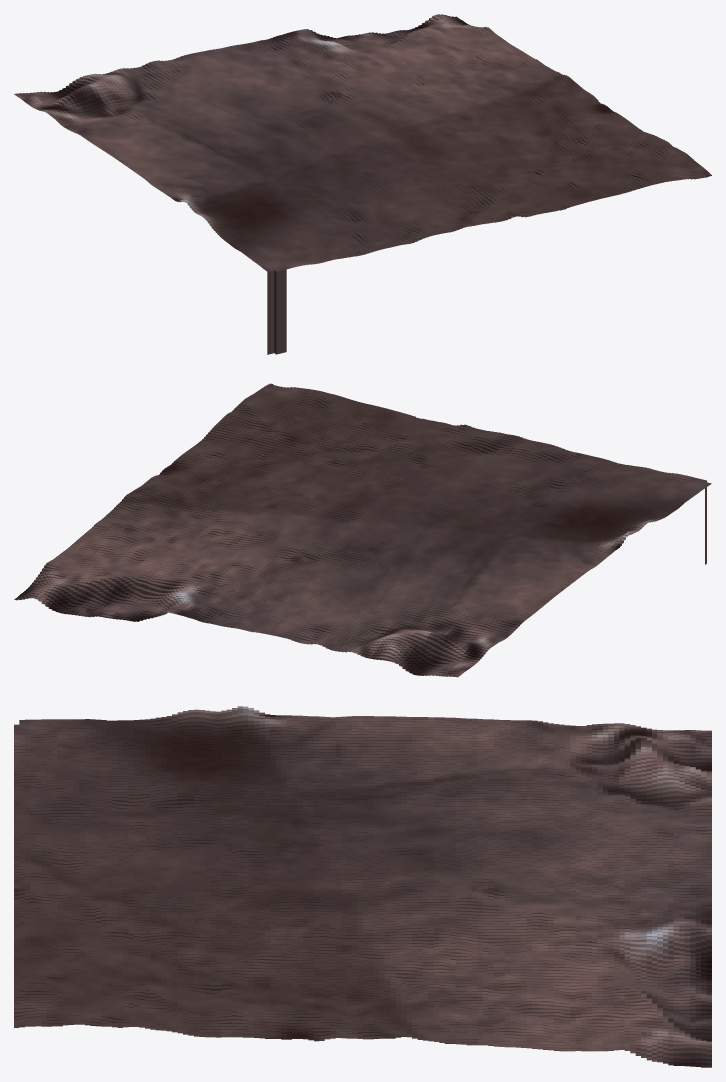
The model's file is chunk-38.glb.
The picture shows the model from 3 angles, top to bottom: view 1: azimuth 30°, elevation 25°; view 2: azimuth 150°, elevation 25°; view 3: azimuth 270°, elevation 25°; orthographic projection. The views are drawn at different scales.
Visible parts, largest first — view 1: Mesh_0.054; view 2: Mesh_0.054; view 3: Mesh_0.054.
Boxes of the visible parts, x1=… form: Mesh_0.054: x1=14, y1=14, x2=711, y2=354; Mesh_0.054: x1=14, y1=383, x2=711, y2=677; Mesh_0.054: x1=14, y1=706, x2=711, y2=1067.
Size of the model in its own units: 32000 by 6420 by 32000.
